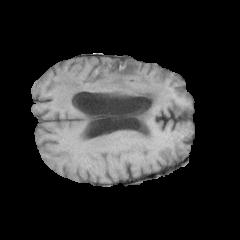glioma: (55, 59, 171, 140)
